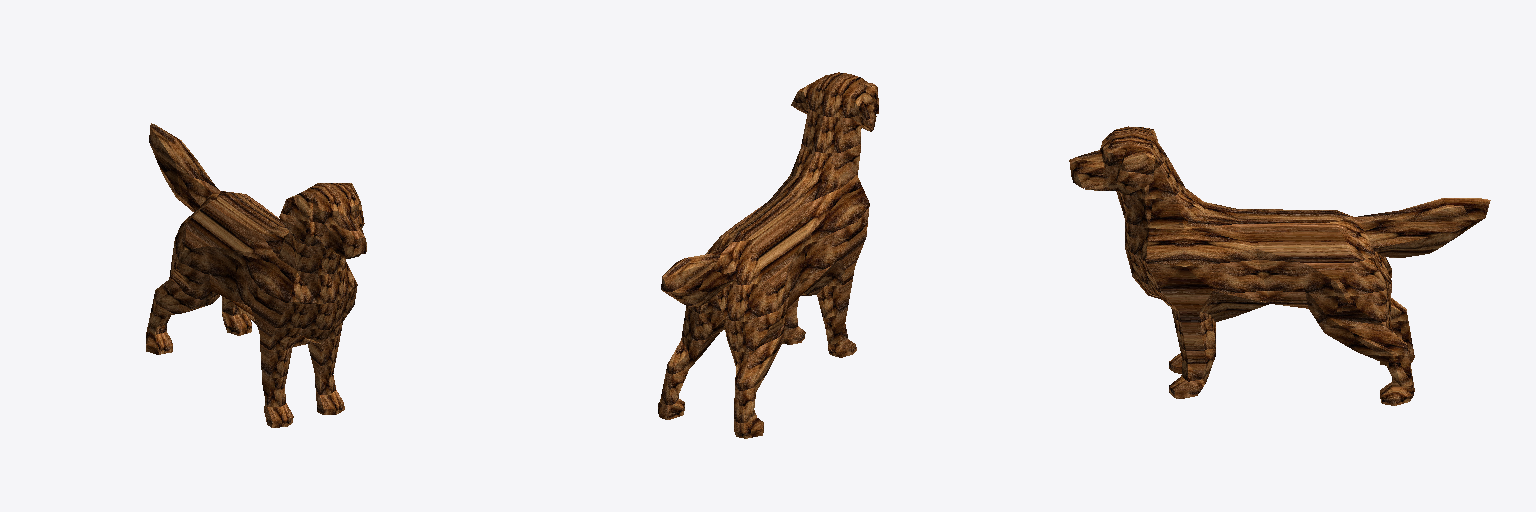
3 views of the same model, side by side, from view 1: azimuth 30°, elevation 25°; view 2: azimuth 150°, elevation 25°; view 3: azimuth 270°, elevation 25° (orthographic).
Parts seen in each view (by area): view 1: dog; view 2: dog; view 3: dog.
Part boxes in pixels (bbox=[...]): dog: bbox=[146, 123, 366, 427]; dog: bbox=[658, 72, 878, 438]; dog: bbox=[1069, 126, 1490, 405].
Size of the model in its own units: 13.11 by 29.89 by 45.74.
1 materials, 1 textured.